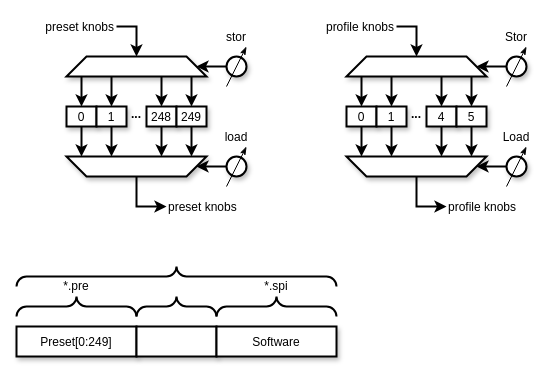
Some shapes in this 553 by 373 pixel diagram are drawn without their labels. Each missing label, with the centre of its shape:
"*.eeprom" belongs at [176,276].
"*.pro" belongs at [176,306].
"Profile[0:5]" belongs at [177,342].
